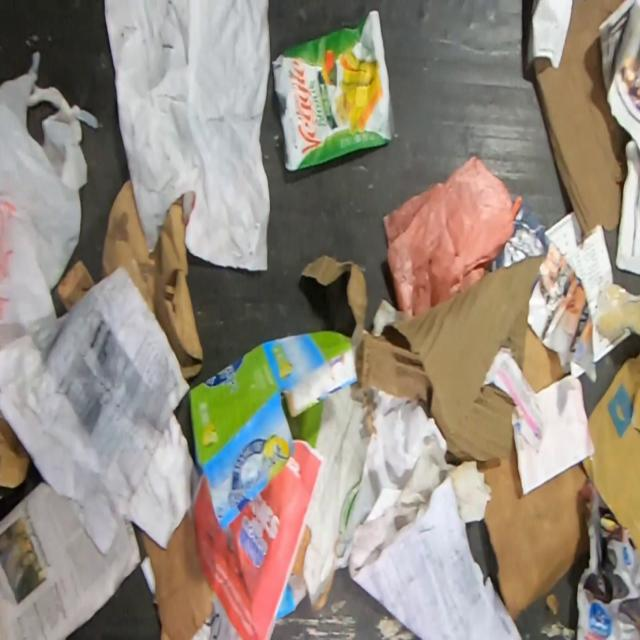cardboard: (301, 253, 565, 460), (188, 328, 358, 530), (53, 176, 203, 379), (533, 0, 630, 240), (478, 425, 589, 620), (580, 282, 640, 550), (136, 510, 212, 639)
soft_plastic: (0, 53, 98, 352), (383, 155, 517, 317), (273, 11, 391, 173)
